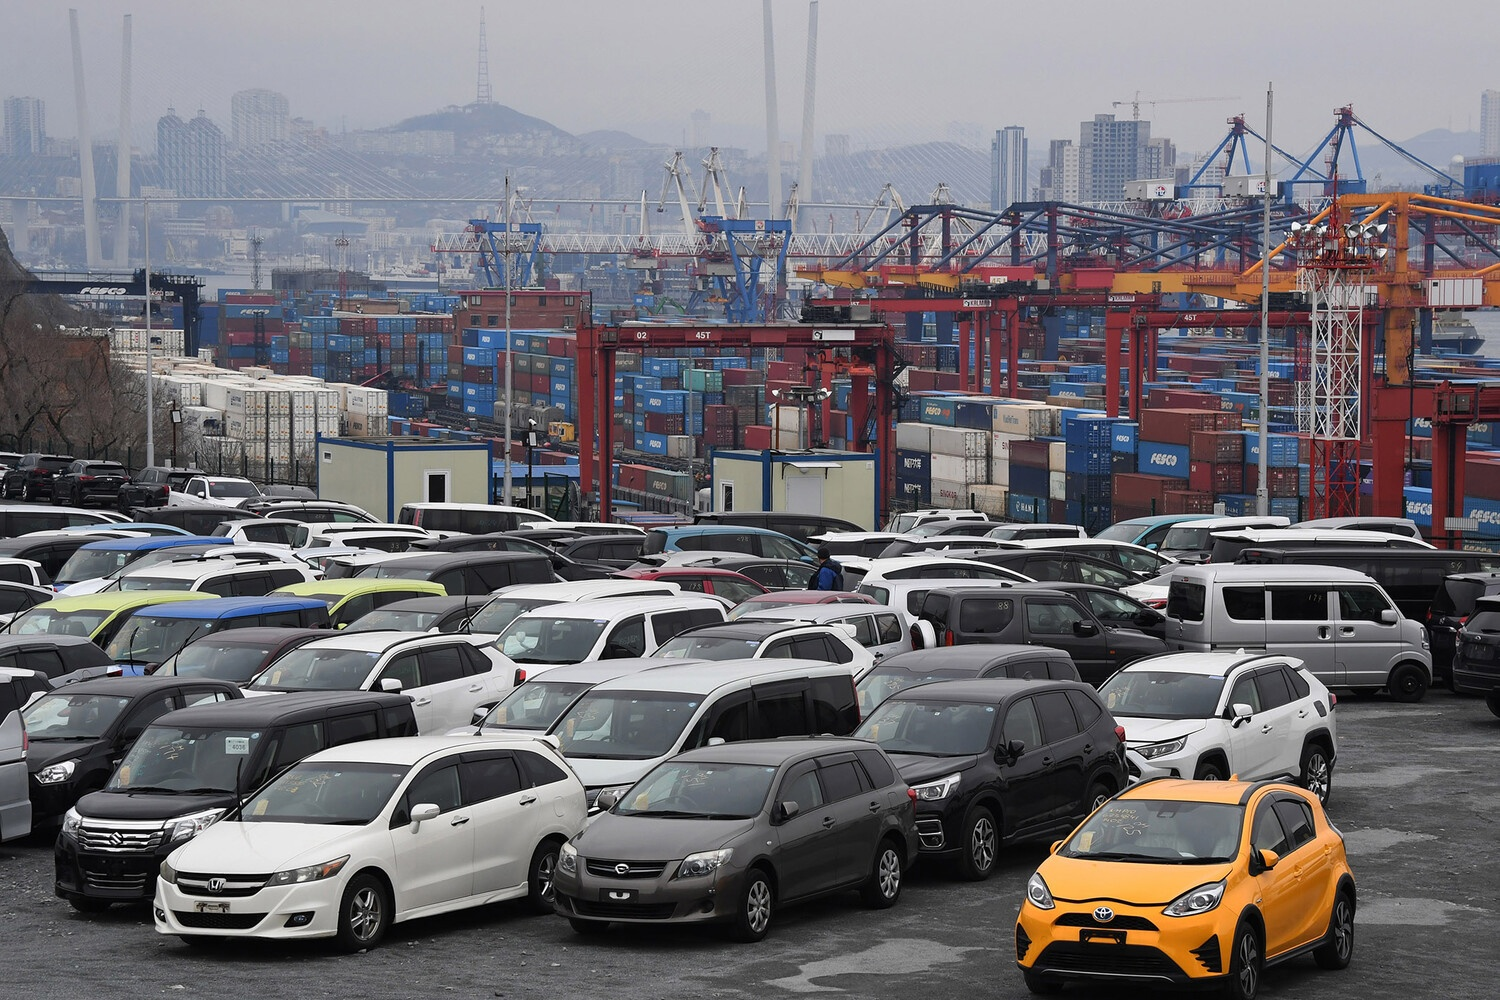Car: (153, 737, 587, 951), (54, 692, 417, 913), (1013, 777, 1358, 1000), (555, 737, 915, 942), (856, 680, 1128, 879), (550, 658, 858, 811), (1167, 564, 1430, 702), (1100, 654, 1337, 804), (20, 679, 242, 835), (246, 632, 517, 734), (912, 587, 1166, 684), (494, 594, 727, 685), (453, 658, 696, 735), (1240, 548, 1500, 618), (108, 596, 328, 675), (857, 645, 1080, 719), (59, 545, 324, 596), (467, 579, 679, 640), (654, 621, 873, 677), (0, 592, 210, 648), (152, 627, 333, 687), (96, 551, 324, 596), (54, 536, 234, 590), (405, 533, 614, 579), (993, 583, 1164, 637), (1210, 526, 1440, 565), (748, 604, 910, 658), (353, 551, 555, 595), (857, 581, 1021, 634), (272, 578, 445, 627), (945, 549, 1150, 590), (642, 525, 820, 567), (840, 556, 1039, 593), (1425, 573, 1500, 664), (1012, 538, 1177, 579), (0, 635, 121, 686), (1453, 594, 1500, 717), (1158, 517, 1290, 558), (619, 567, 766, 604), (397, 504, 558, 538), (0, 535, 112, 583), (693, 512, 871, 542), (345, 596, 488, 633), (1092, 513, 1230, 551), (0, 673, 30, 843), (682, 557, 817, 590), (117, 467, 208, 515), (729, 592, 877, 621), (0, 503, 115, 538), (876, 533, 1028, 559), (289, 523, 429, 551), (134, 503, 257, 533), (1, 453, 76, 502), (248, 498, 384, 523), (51, 460, 129, 504), (167, 473, 267, 508), (1286, 517, 1424, 541), (324, 552, 448, 579), (547, 536, 646, 568), (805, 530, 901, 564), (0, 581, 69, 621), (881, 509, 990, 533), (1119, 569, 1175, 617), (626, 550, 760, 569), (311, 531, 430, 552), (213, 519, 299, 547), (0, 667, 58, 708), (298, 547, 386, 570), (0, 556, 57, 590), (62, 522, 196, 537), (904, 520, 1020, 537), (983, 523, 1087, 541), (518, 522, 648, 536), (680, 590, 738, 614), (20, 529, 150, 538), (0, 451, 25, 496), (234, 496, 300, 510), (260, 484, 317, 499), (1177, 551, 1213, 566), (491, 583, 532, 595), (99, 510, 132, 522), (0, 614, 12, 628)
